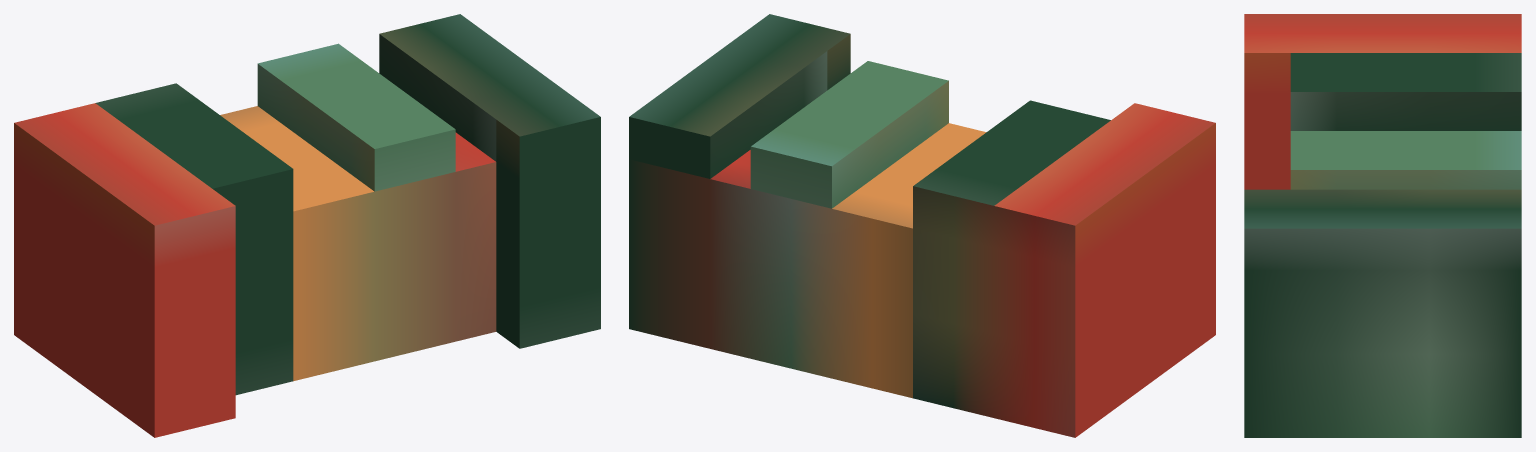
Rendered from AssortedBooks_B_00.obj.
3 renders of one model, left to right at view 1: azimuth 30°, elevation 25°; view 2: azimuth 150°, elevation 25°; view 3: azimuth 270°, elevation 25°, orthographic.
Visible parts, largest first — view 1: AssortedBooks_B_00; view 2: AssortedBooks_B_00; view 3: AssortedBooks_B_00.
Boxes of the visible parts, x1,y1,x2,y2 form: AssortedBooks_B_00: (14, 14, 600, 437); AssortedBooks_B_00: (629, 14, 1215, 437); AssortedBooks_B_00: (1244, 14, 1521, 437).
Bounding box in the file's own units: 0.55 × 0.25 × 0.3.
